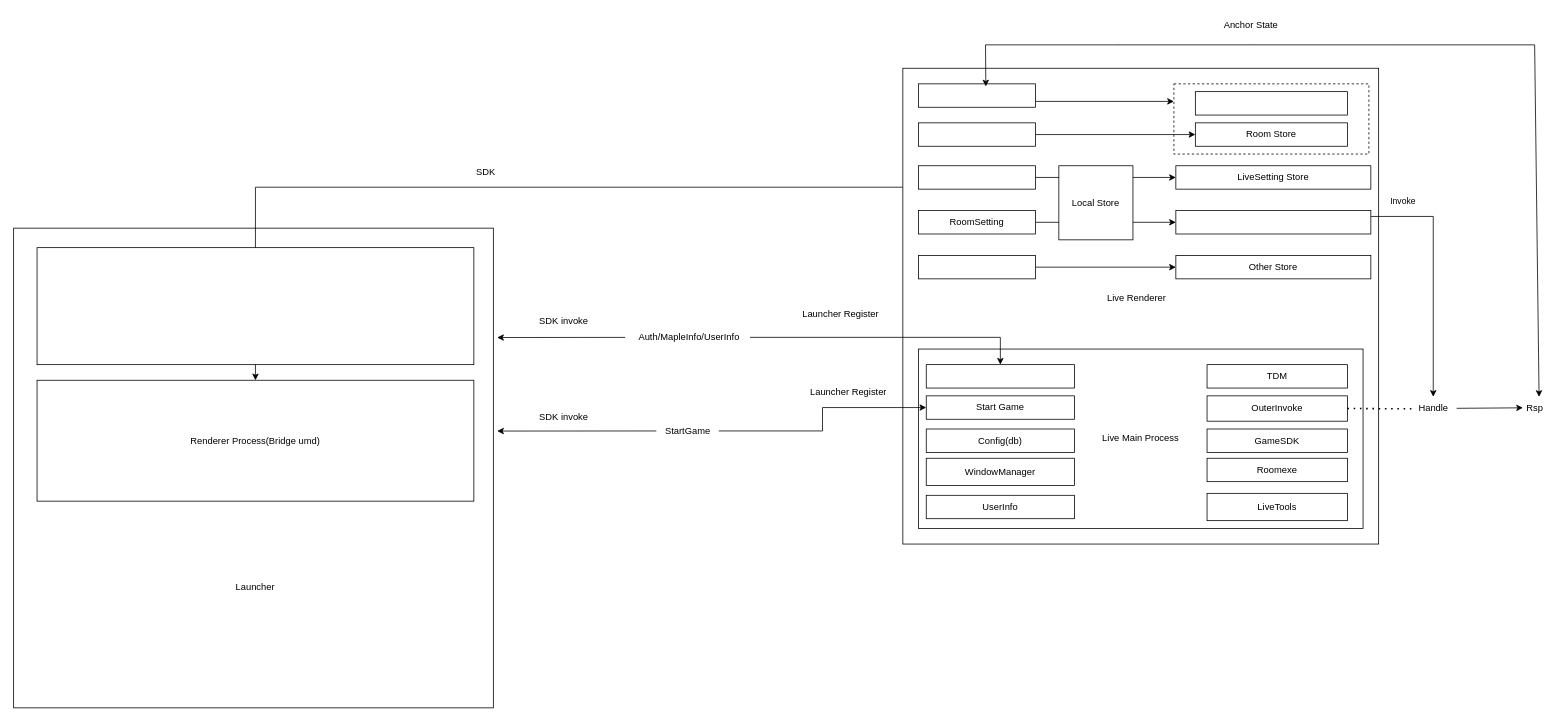
The diagram is 1564 pixels wide and 722 high, and some of its shapes have lost their labels. The shapes that lost their labels are listed below. From the top down, each one's centre as x and y in pixels, then its label:
At [976,95]: "Anchor".
At [1271,103]: "Anchor Store".
At [976,134]: "Room".
At [976,177]: "LiveSetting".
At [1273,222]: "RoomSetting Store".
At [976,267]: "Other...".
At [255,306]: "Main Process (SDK/main)".
At [999,376]: "Auth".
